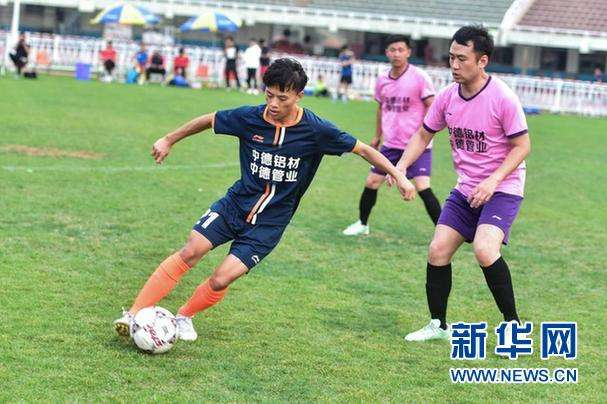football: (130, 306, 179, 354)
